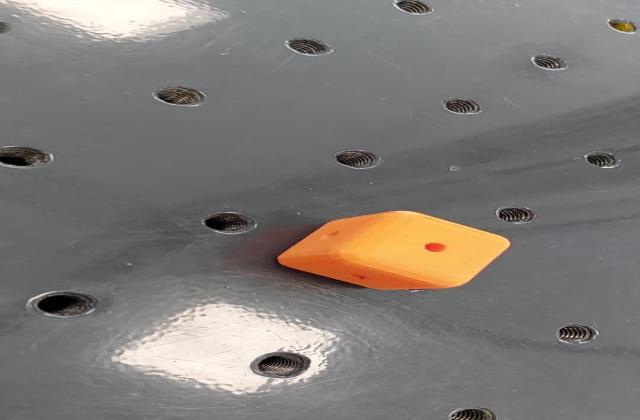cube: (271, 208, 522, 294)
